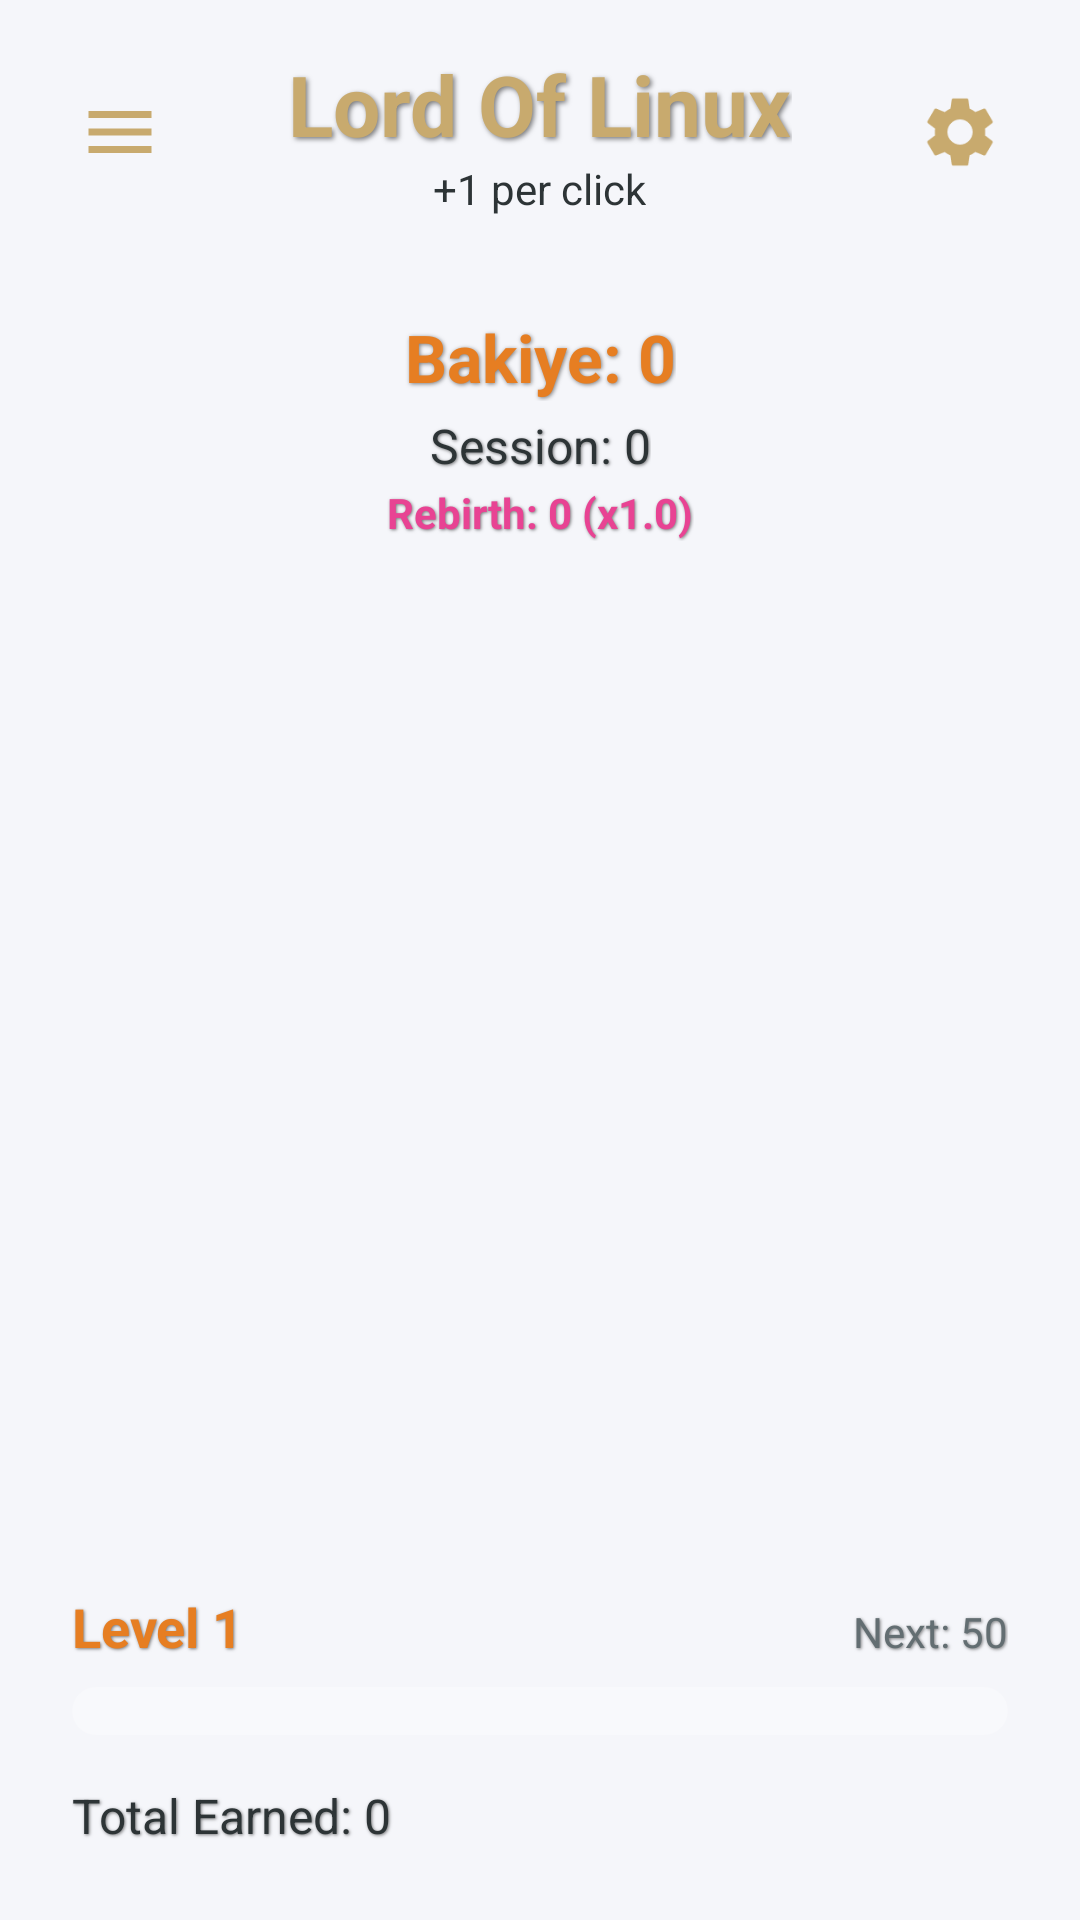

Named icons in this screenshot (1080w x 1920h) and their centers, point (x, y):
gear: point (960, 132)
hamburger: point (120, 132)
